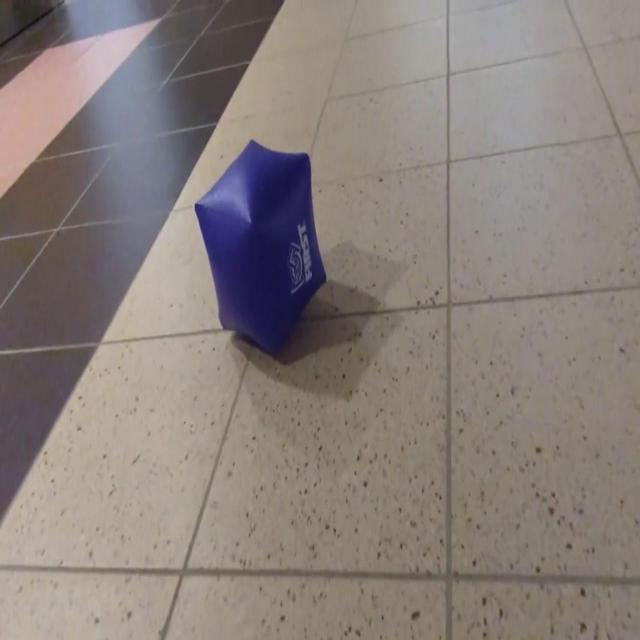frc_cube: (198, 141, 331, 359)
